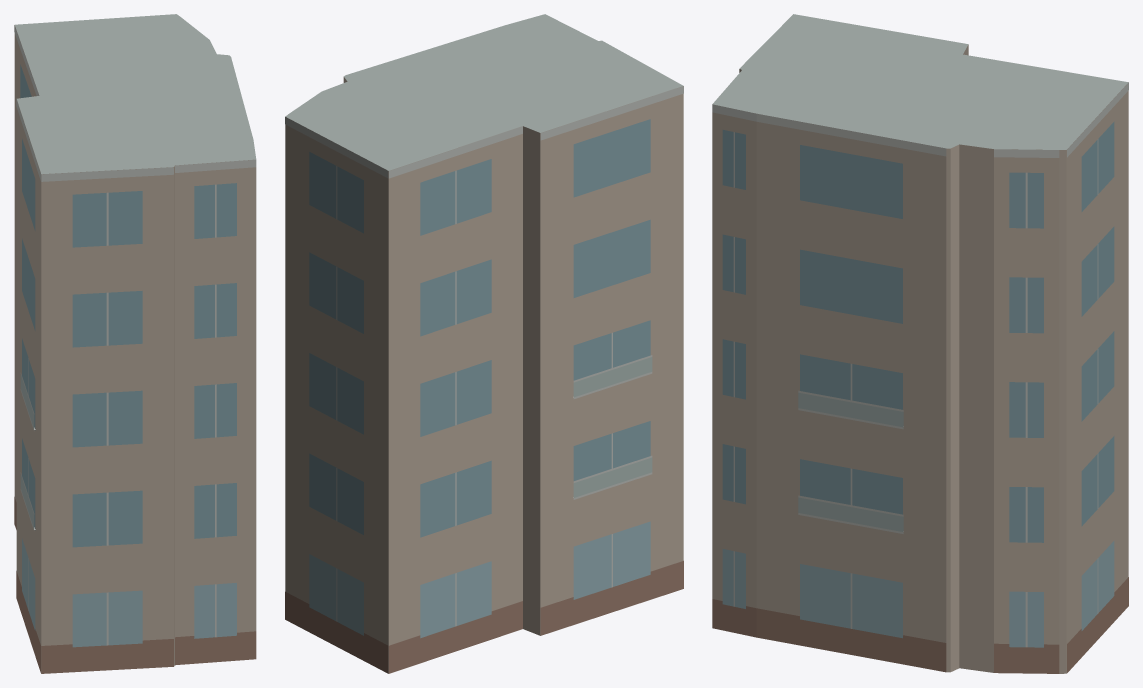
File: survey-upis-32968759.glb
3 renders of one model, left to right at view 1: azimuth 30°, elevation 25°; view 2: azimuth 150°, elevation 25°; view 3: azimuth 270°, elevation 25°, orthographic. The views are drawn at different scales.
Parts seen in each view (by area): view 1: survey-upis-32968759.tmp; view 2: survey-upis-32968759.tmp; view 3: survey-upis-32968759.tmp.
Boxes of the visible parts, bbox=[...] form: survey-upis-32968759.tmp: bbox=[14, 14, 256, 673]; survey-upis-32968759.tmp: bbox=[285, 14, 683, 673]; survey-upis-32968759.tmp: bbox=[712, 14, 1128, 673].
Bounding box in the file's own units: 8.81 × 15.8 × 11.39.
